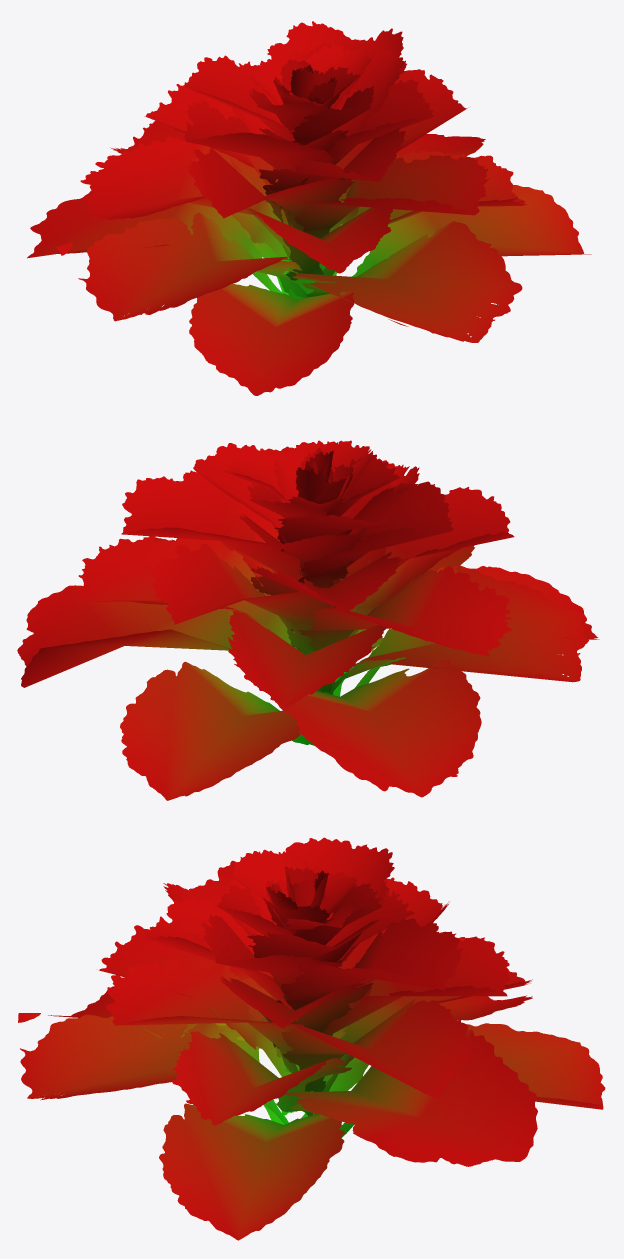
The model's file is Ornaent.fbx.
3 views of the same model, one above another, from view 1: azimuth 30°, elevation 25°; view 2: azimuth 150°, elevation 25°; view 3: azimuth 270°, elevation 25° (orthographic). The views are drawn at different scales.
Parts seen in each view (by area): view 1: _2924_Var1_LOD4; view 2: _2924_Var1_LOD4; view 3: _2924_Var1_LOD4.
Part boxes in pixels (x1,y1,x2,y2): _2924_Var1_LOD4: (27,21,591,395); _2924_Var1_LOD4: (17,440,599,800); _2924_Var1_LOD4: (18,837,605,1240).
Size of the model in its own units: 24.5 by 13.01 by 24.01.
